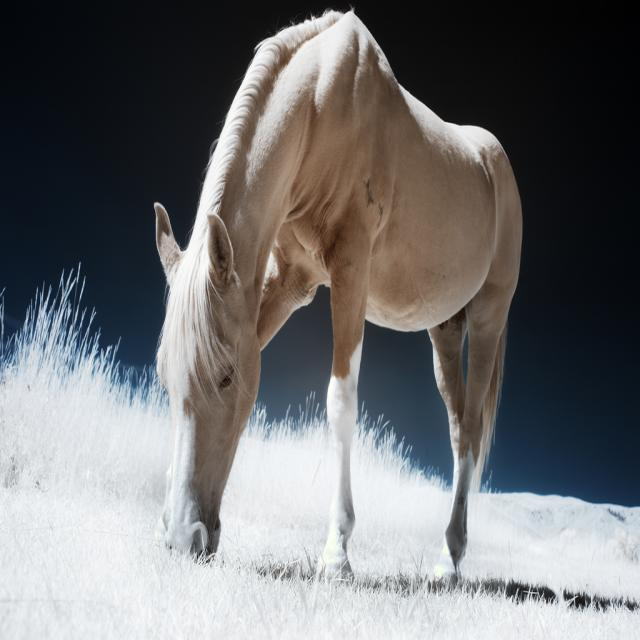Horse: (155, 4, 524, 593)
